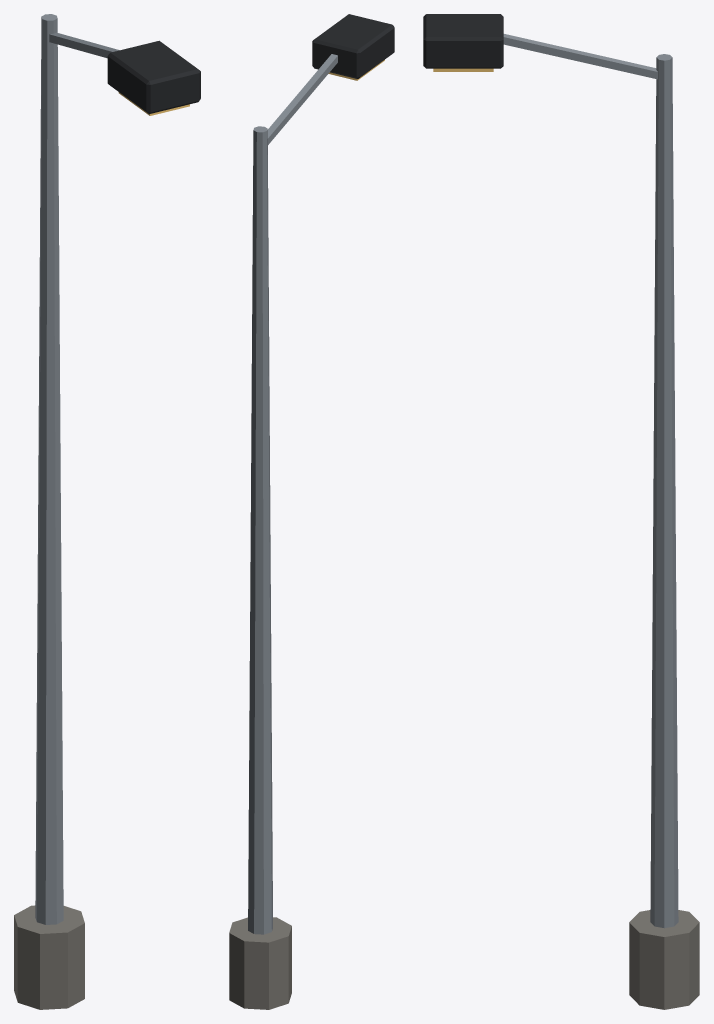
The model's file is Scenery_LampPost.fbx.
The picture shows the model from 3 angles, left to right: view 1: azimuth 30°, elevation 25°; view 2: azimuth 150°, elevation 25°; view 3: azimuth 270°, elevation 25°; orthographic projection. The views are drawn at different scales.
Parts seen in each view (by area): view 1: Scenery_LampPost; view 2: Scenery_LampPost; view 3: Scenery_LampPost.
Boxes of the visible parts, left/top/right/bottom form: Scenery_LampPost: left=14, top=14, right=200, bottom=1009; Scenery_LampPost: left=229, top=14, right=394, bottom=1009; Scenery_LampPost: left=423, top=14, right=699, bottom=1009.
Size of the model in its own units: 0.7 by 10.65 by 2.75.
